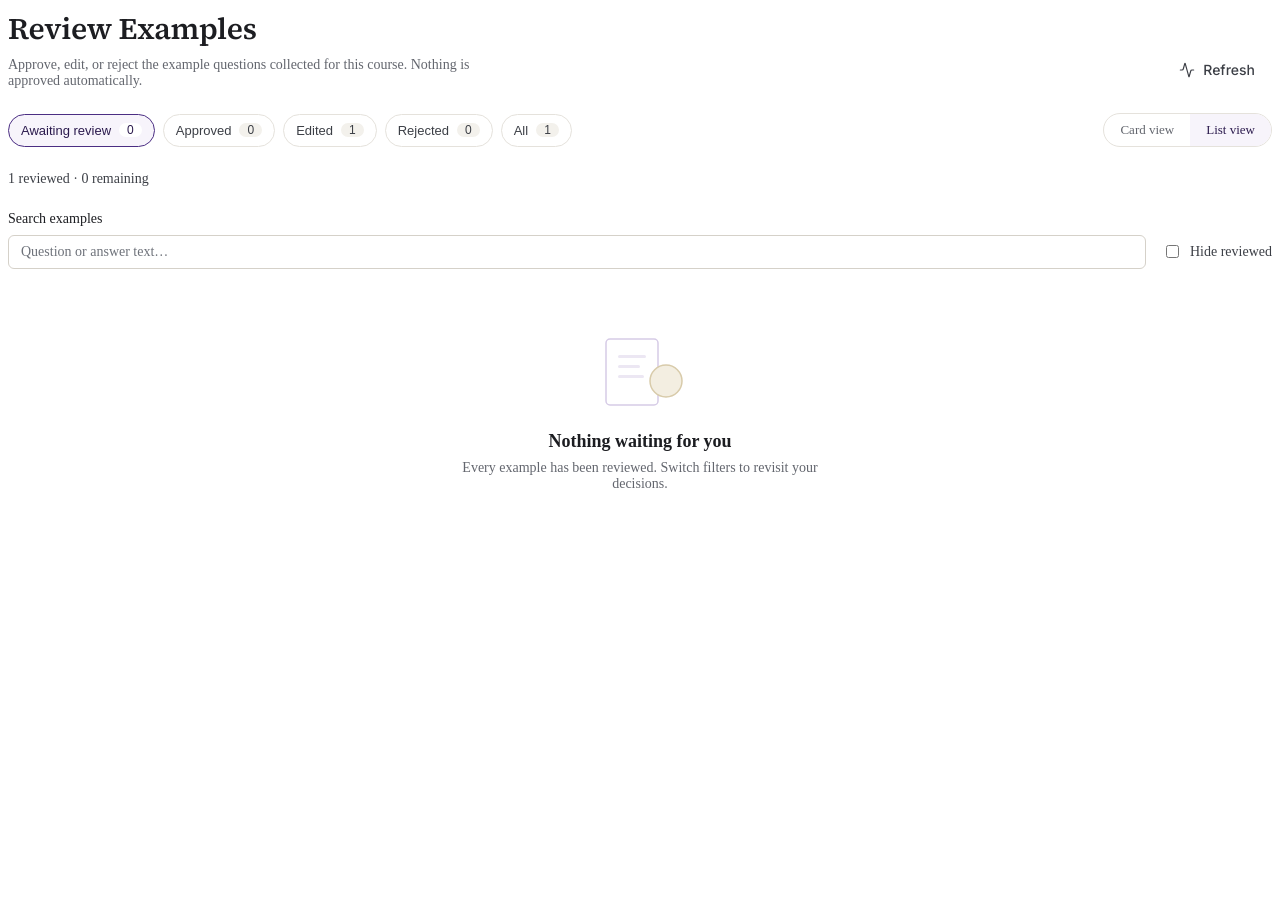
Scenario: ReviewExamplesPage › approving an edited seed moves it to Approved and keeps Edited badge
Click the button "Card view" at coordinates (1147, 130), box [1104, 114, 1190, 146]
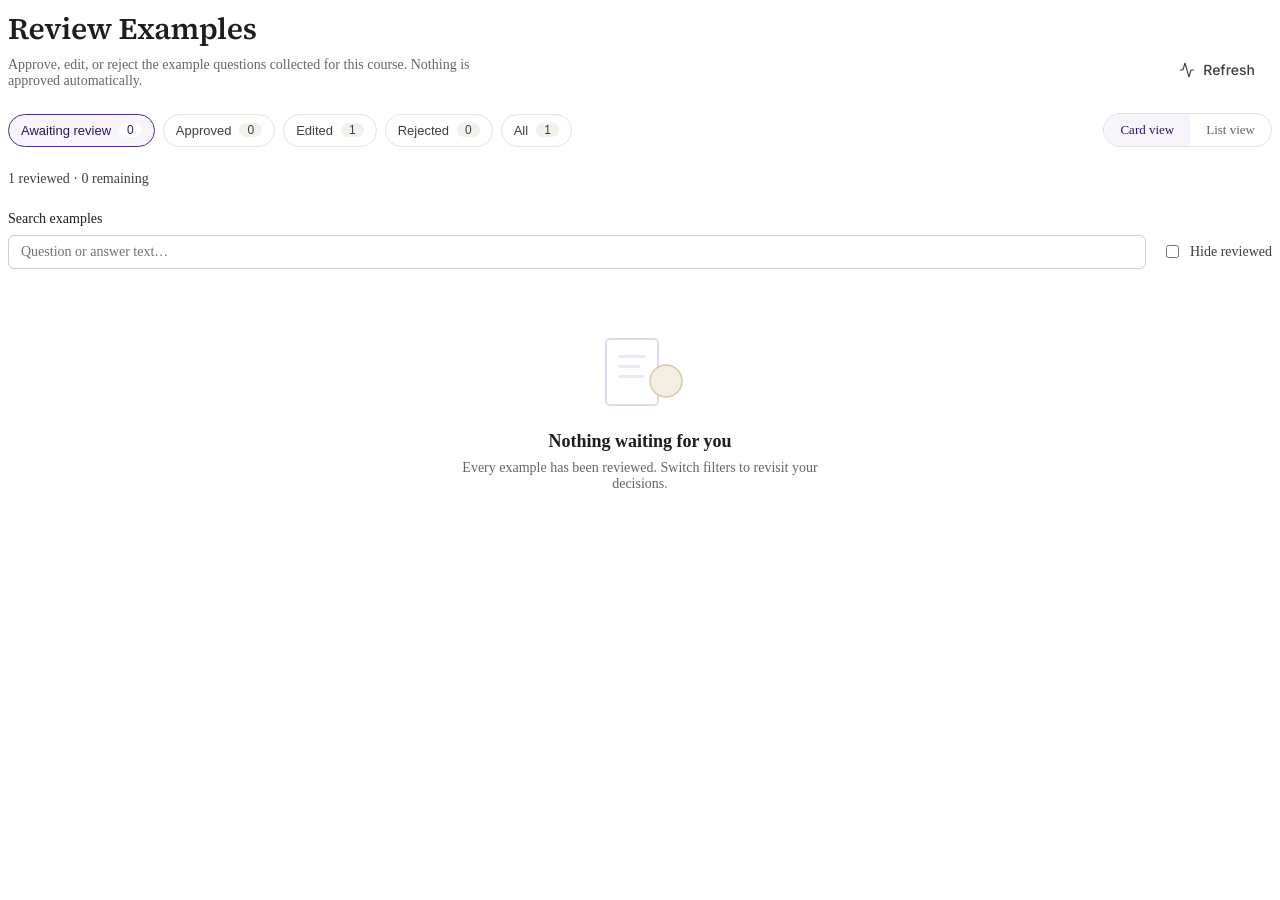
Click the tab "Edited 1" at coordinates (330, 130), box [283, 114, 377, 146]
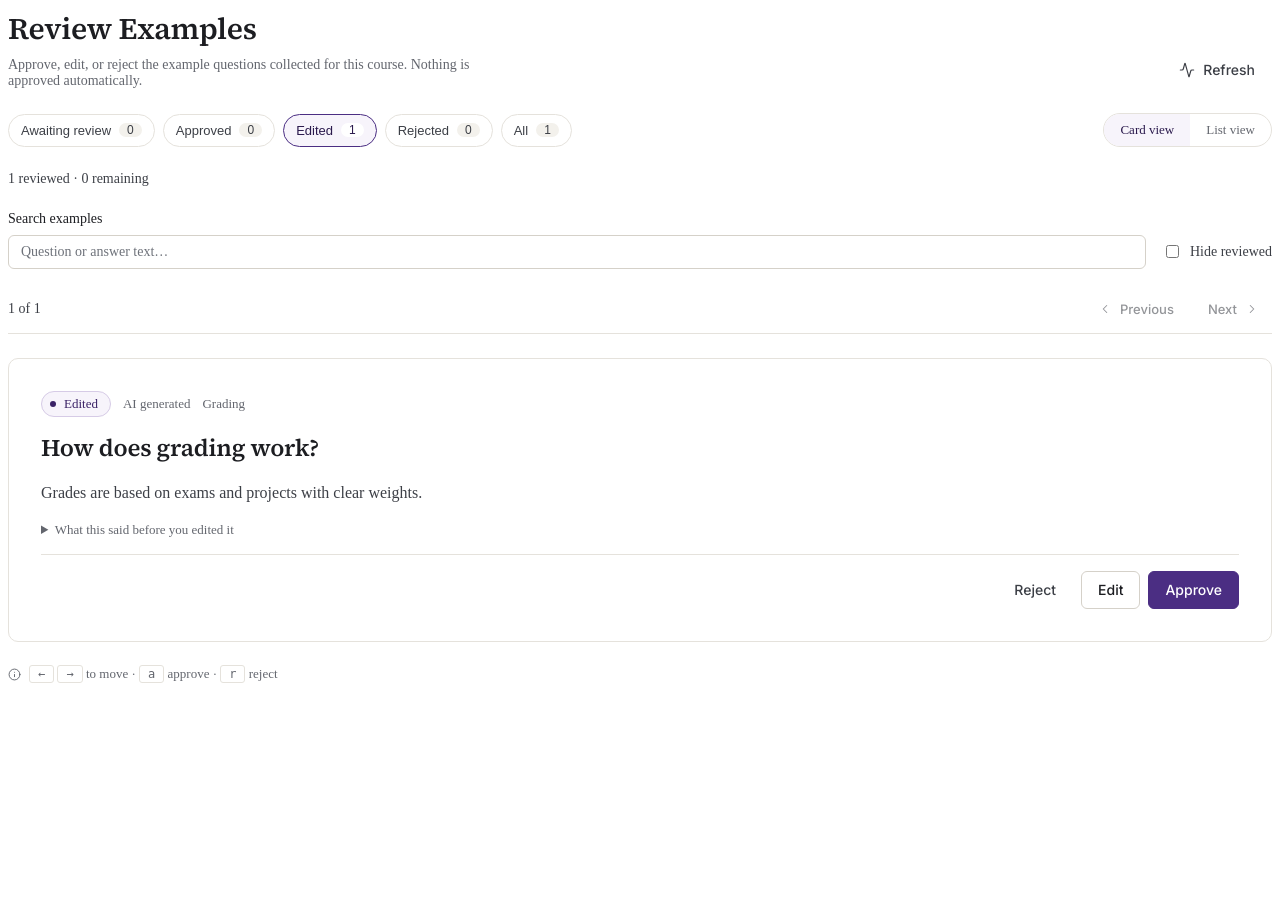
Expected: the heading "How does grading work?" is shown, [41, 431, 319, 464]
Click the button "Approve" at coordinates (1194, 590), box [1148, 571, 1239, 609]
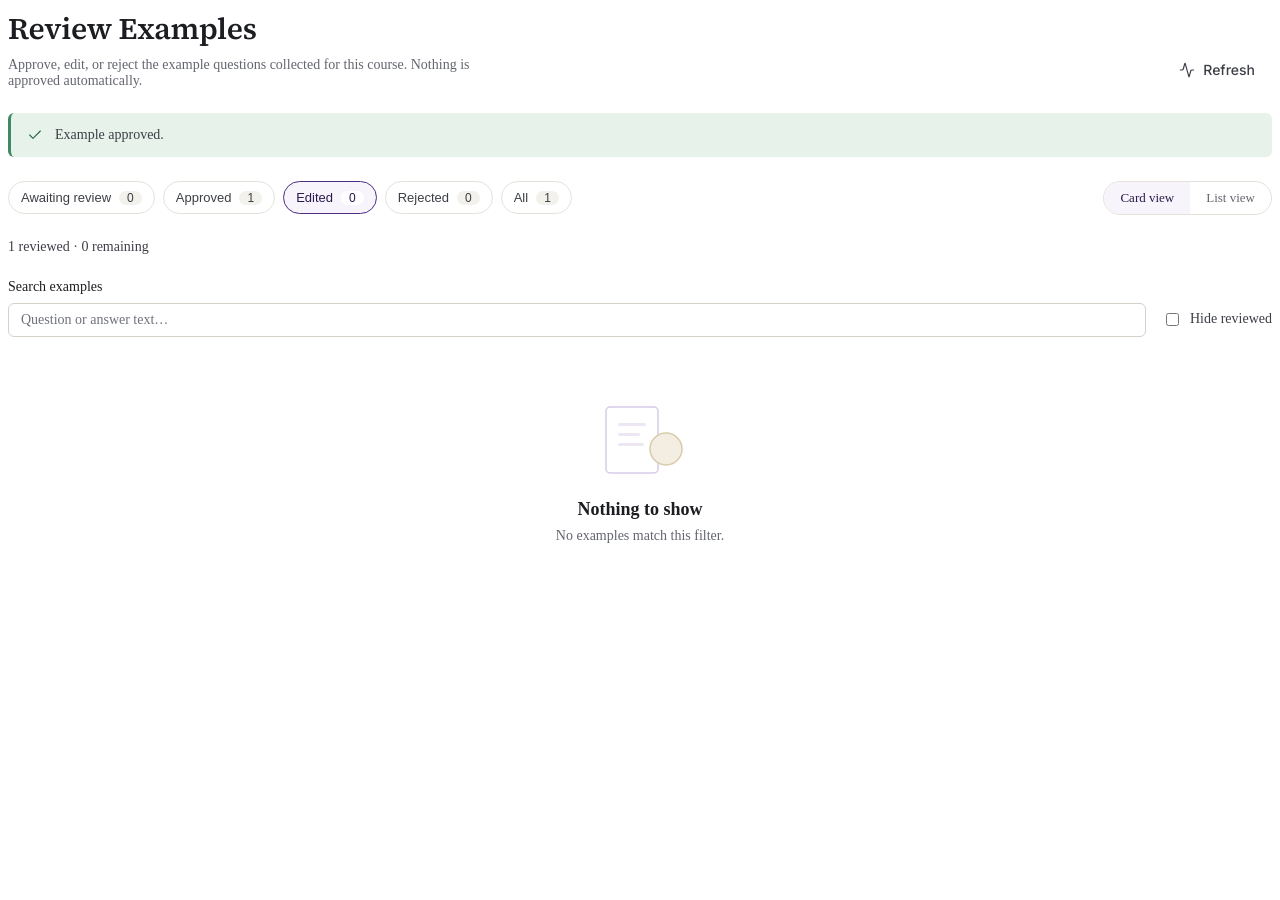
Expected: the heading "How does grading work?" is gone
Click the tab "Approved 1" at coordinates (219, 198), box [163, 181, 275, 214]
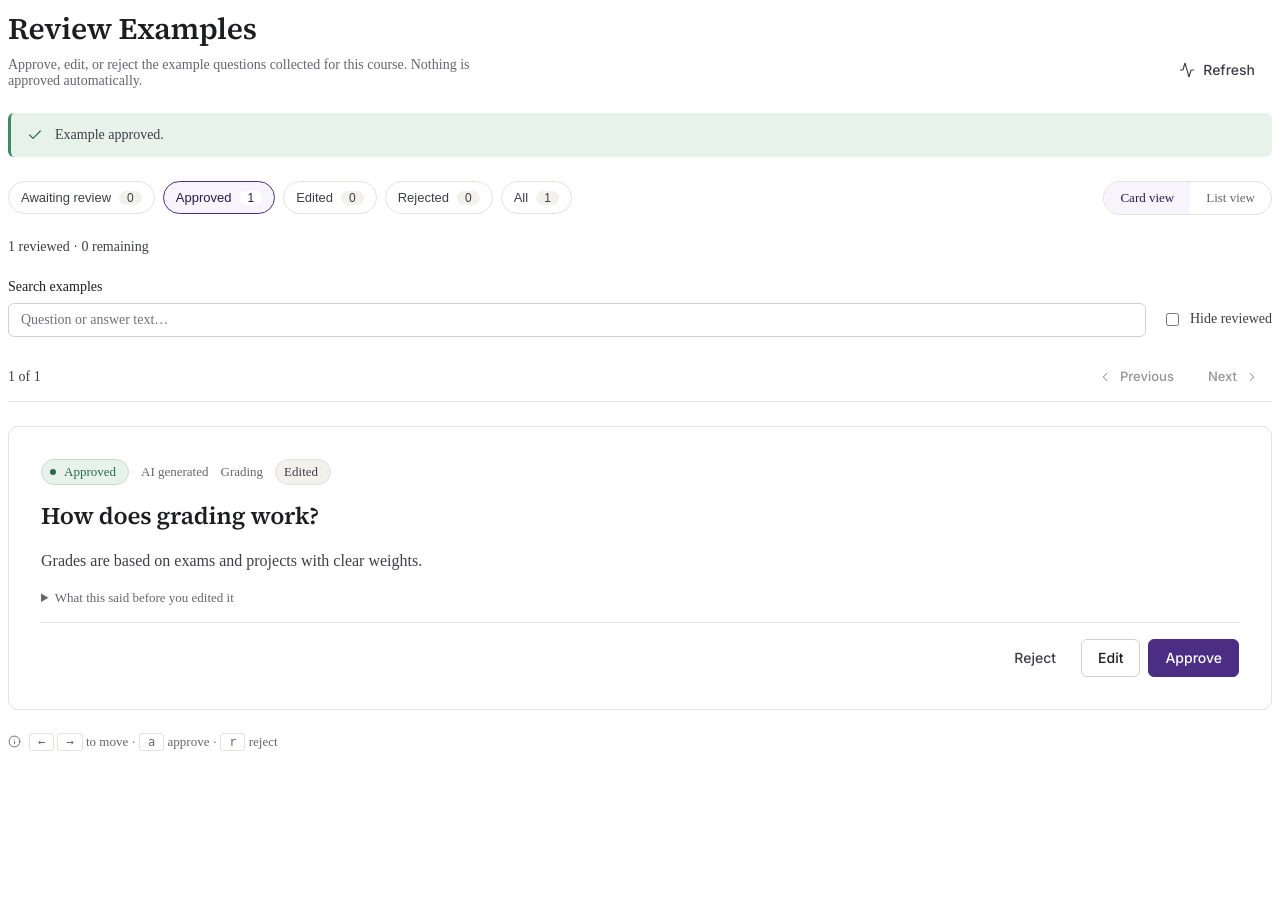
Expected: the heading "How does grading work?" is shown, [41, 499, 319, 532]
Expected: the text "Approved" is shown, [41, 459, 129, 485]
Expected: the text "Edited" is shown, [275, 459, 331, 485]
Click the heading "What this said before you edited it" at coordinates (144, 598), box [55, 590, 234, 605]
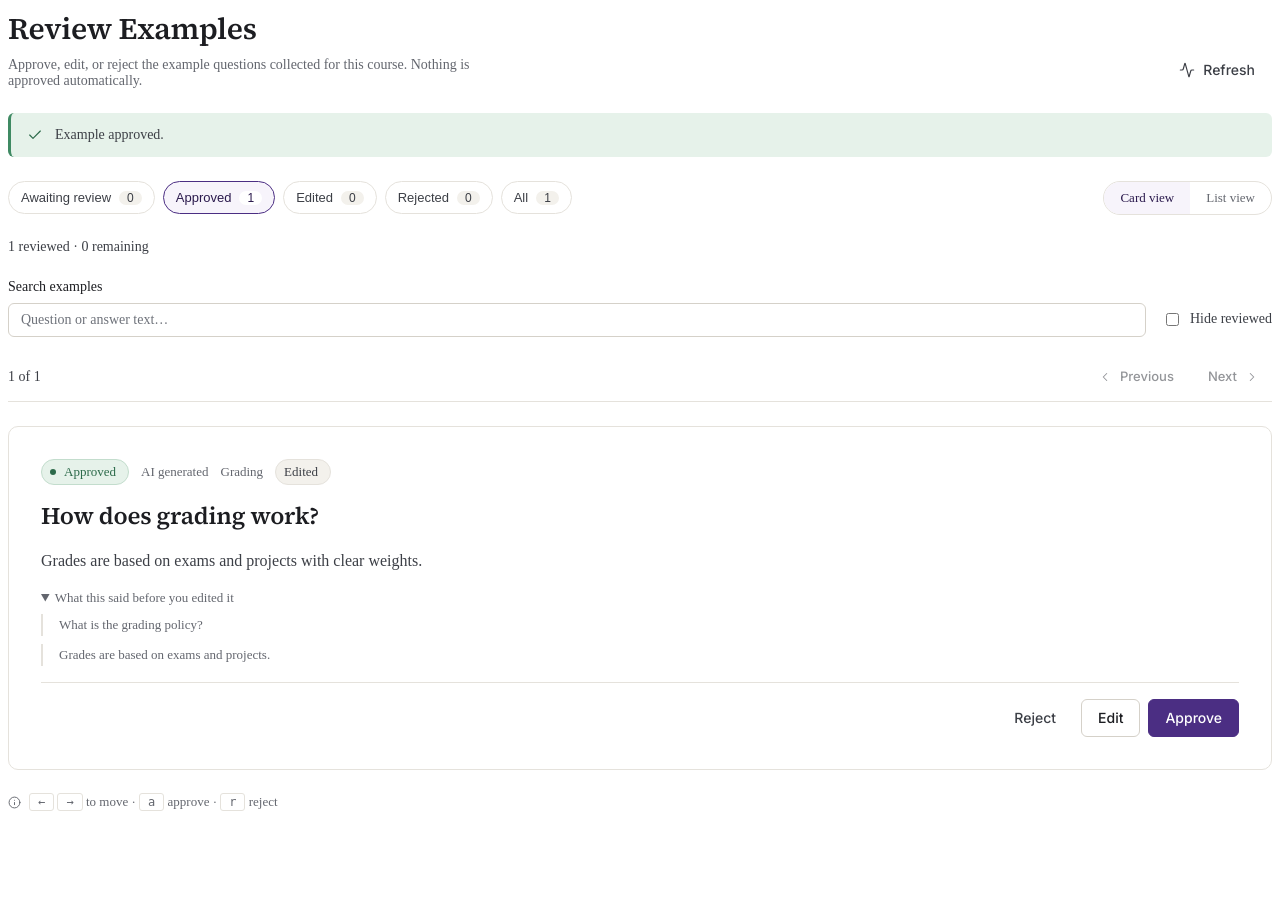
Expected: the text "What is the grading policy?" is shown, [41, 614, 1239, 636]
Expected: the text "Grades are based on exams and projects." is shown, [41, 644, 1239, 666]
